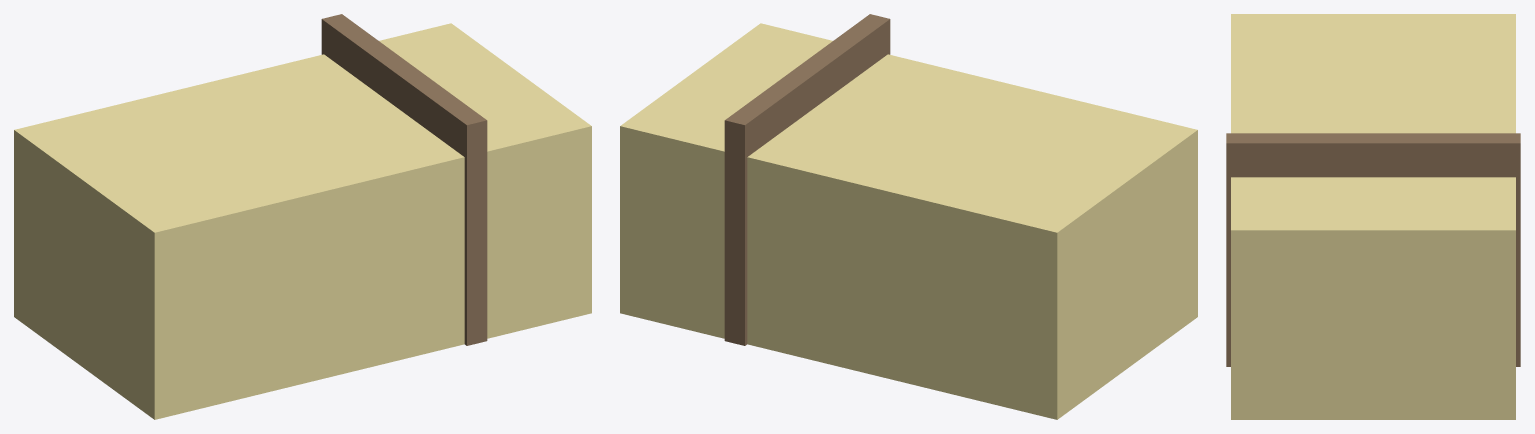
Rendered from Prop_Live_AMF_HayBale_V7.glb.
3 renders of one model, left to right at view 1: azimuth 30°, elevation 25°; view 2: azimuth 150°, elevation 25°; view 3: azimuth 270°, elevation 25°, orthographic.
Parts seen in each view (by area): view 1: Prop_Live_AMF_HayBale_V7; view 2: Prop_Live_AMF_HayBale_V7; view 3: Prop_Live_AMF_HayBale_V7.
Boxes of the visible parts, <box> form: Prop_Live_AMF_HayBale_V7: <box>14,14,591,419</box>; Prop_Live_AMF_HayBale_V7: <box>620,14,1197,419</box>; Prop_Live_AMF_HayBale_V7: <box>1226,14,1520,419</box>.
Bounding box in the file's own units: 1.08 × 0.52 × 0.62.
